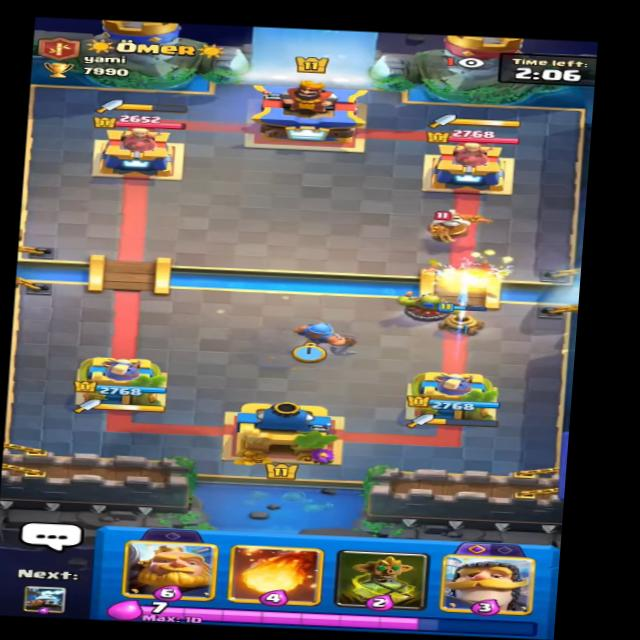barbarian-hut: (427, 205, 491, 245)
